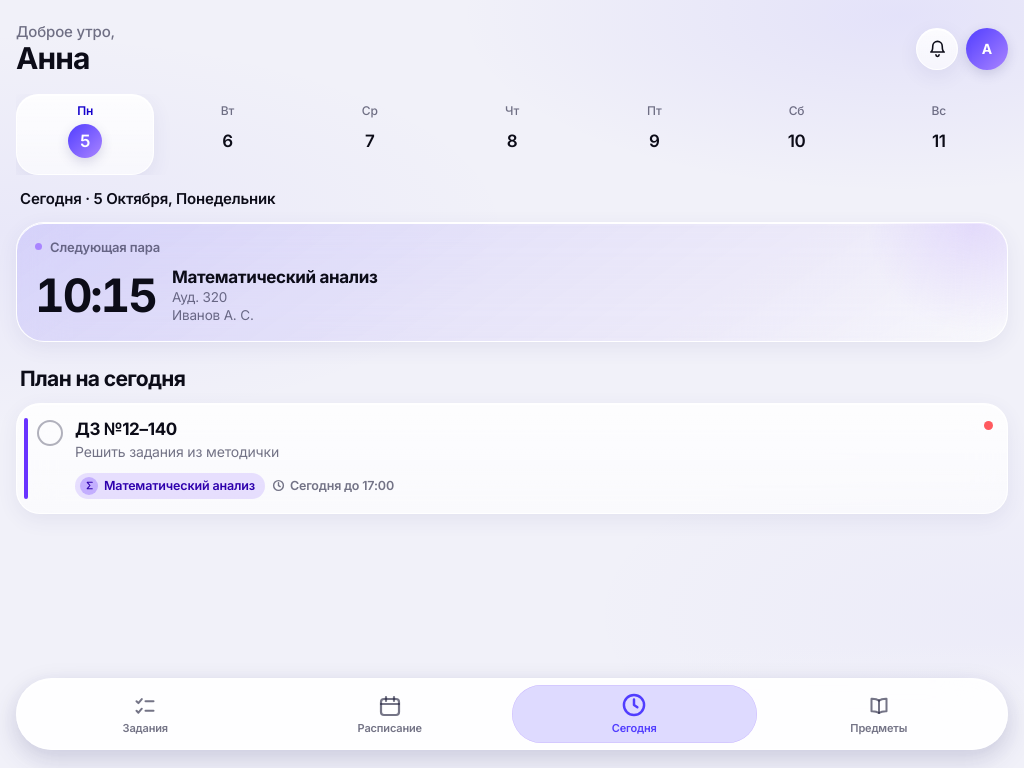
Scenario: Today › picks another day in the week strip without leaving Today
The width and height of the screenshot is (1024, 768).
Expected: the text "ДЗ №12–140" is shown, [75,418,177,438]
Click the button "Ср 7". click: (370, 134)
box: [301,94,439,174]
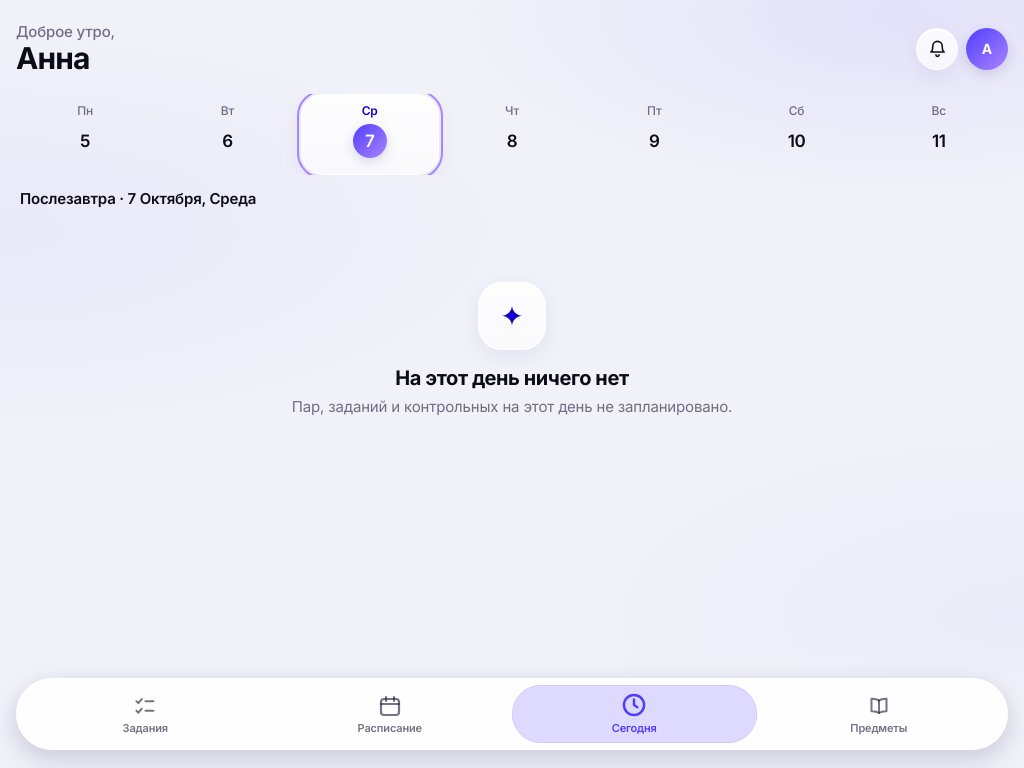
Result: the link "ДЗ №12–140" is gone
Click the button "Пн 5". click: (85, 134)
box: [16,94,154,174]
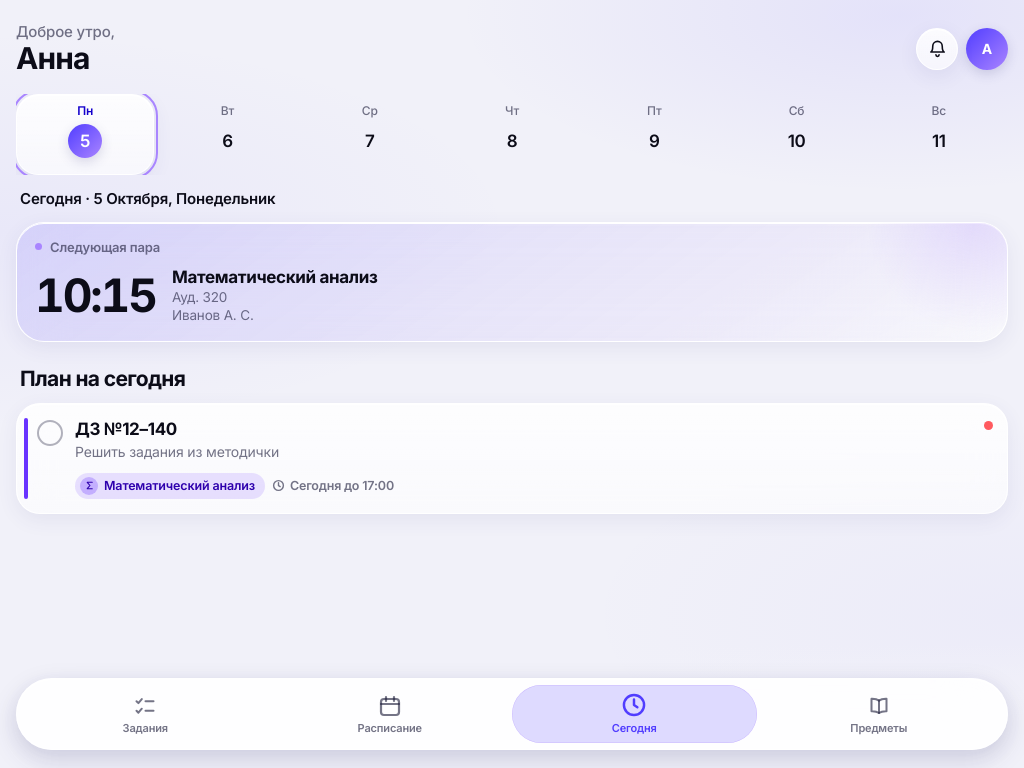
Result: the text "ДЗ №12–140" is shown at [75,418,177,438]
